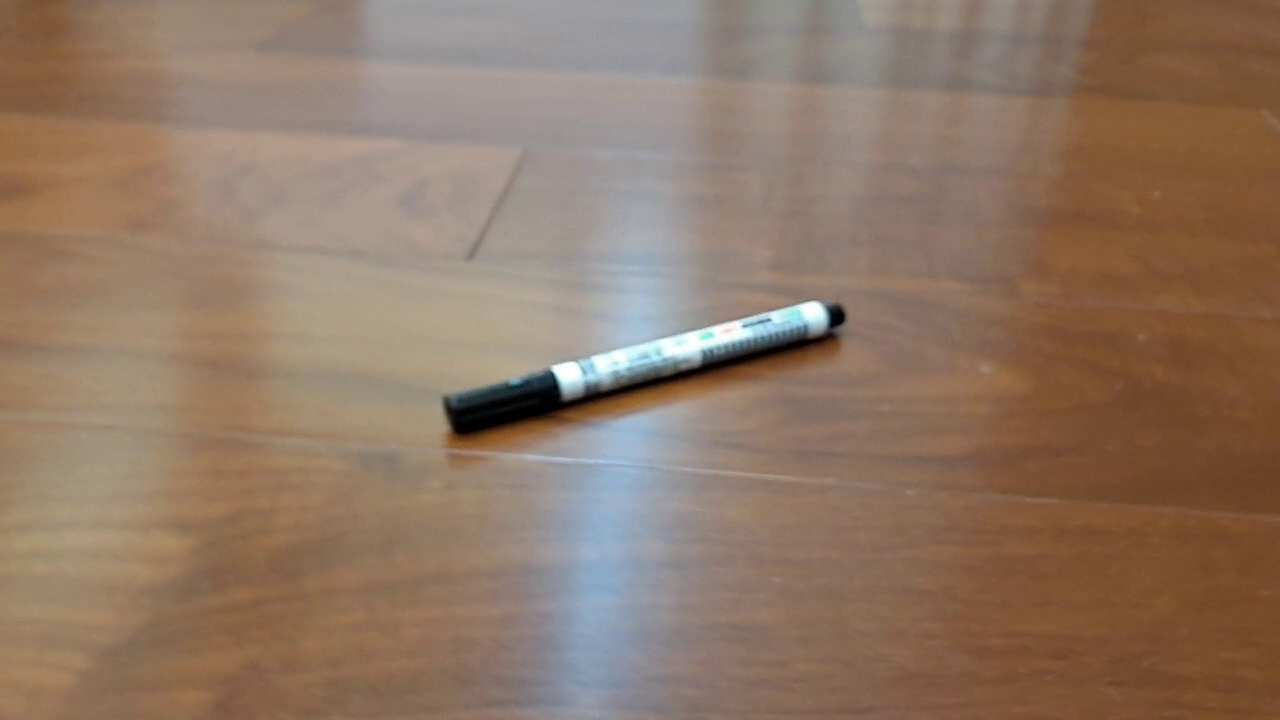pen: (443, 299, 846, 436)
